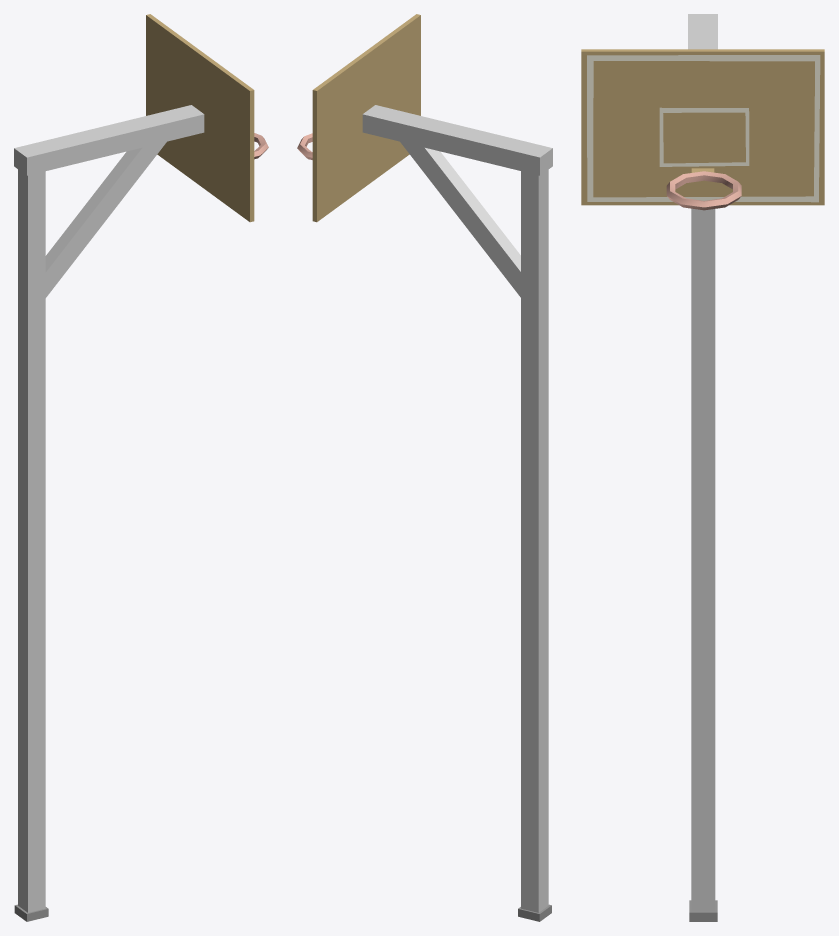
File: basketball backboard.fbx
3 renders of one model, left to right at view 1: azimuth 30°, elevation 25°; view 2: azimuth 150°, elevation 25°; view 3: azimuth 270°, elevation 25°, orthographic. The views are drawn at different scales.
Visible parts, largest first — view 1: Torus_1; view 2: Torus_1; view 3: Torus_1.
Boxes of the visible parts, x1,y1,x2,y2 form: Torus_1: (14, 14, 268, 921); Torus_1: (297, 14, 552, 921); Torus_1: (581, 14, 824, 921).
Bounding box in the file's own units: 130 × 417 × 95.73.
